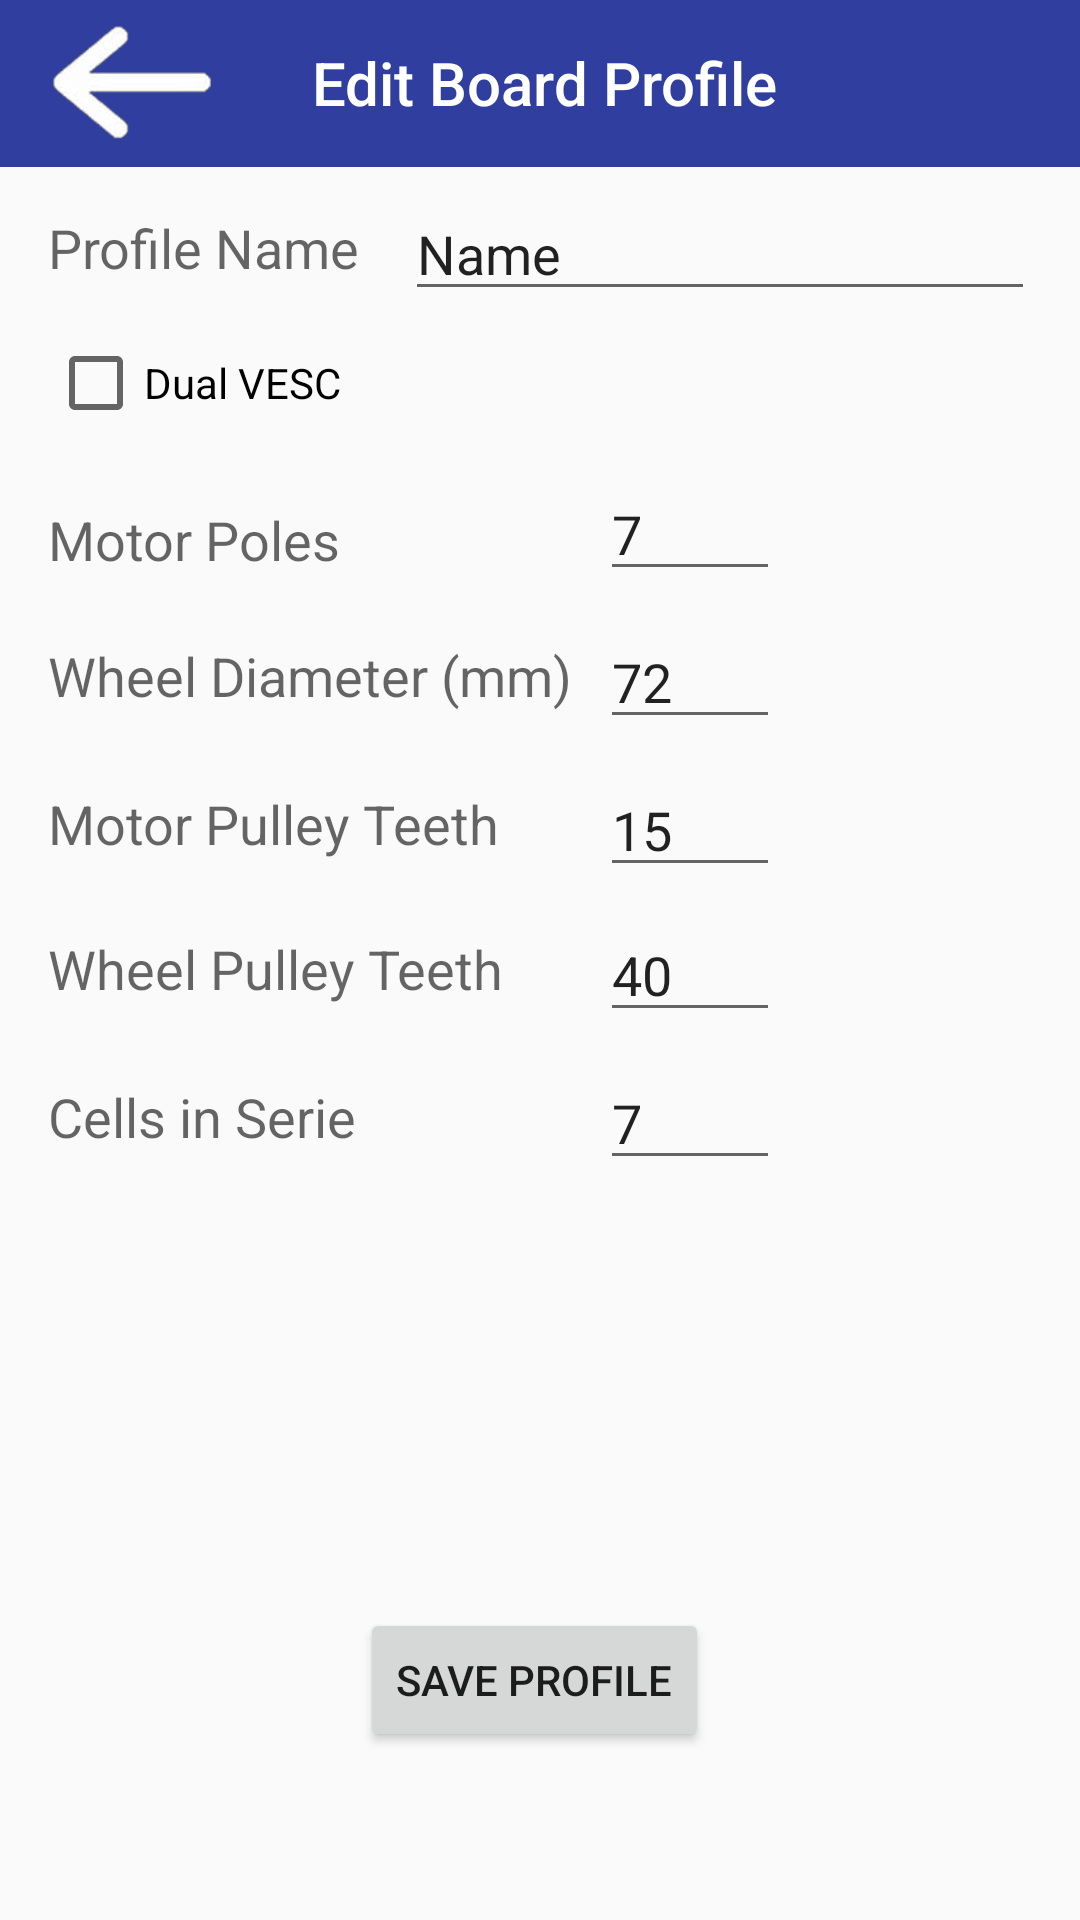

Screen size 1080w x 1920h. Icon name, then its center in pixels as (x,y):
back: (132,82)
